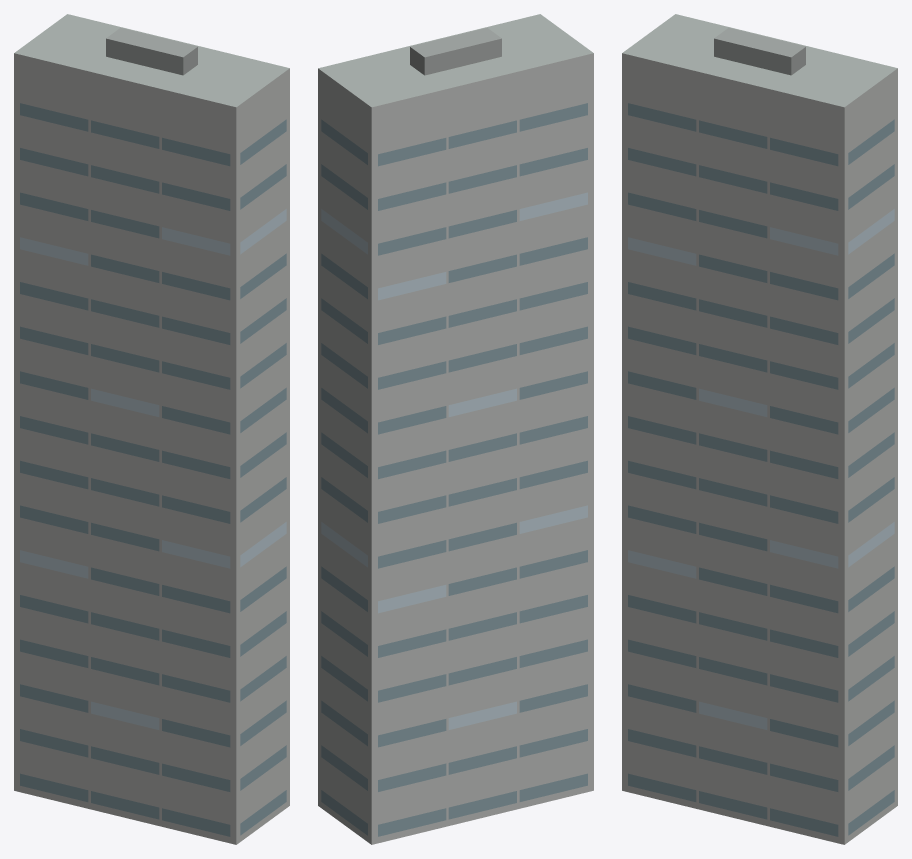
File: fallback-jamsil-ricenz-259.glb
3 renders of one model, left to right at view 1: azimuth 90°, elevation 25°; view 2: azimuth 150°, elevation 25°; view 3: azimuth 270°, elevation 25°, orthographic.
Parts seen in each view (by area): view 1: fallback-jamsil-ricenz-259; view 2: fallback-jamsil-ricenz-259; view 3: fallback-jamsil-ricenz-259.
Boxes of the visible parts, bbox=[...] form: fallback-jamsil-ricenz-259: bbox=[14, 14, 289, 844]; fallback-jamsil-ricenz-259: bbox=[318, 14, 593, 844]; fallback-jamsil-ricenz-259: bbox=[622, 14, 897, 844].
Size of the model in its own units: 26.5 by 100 by 33.08.
